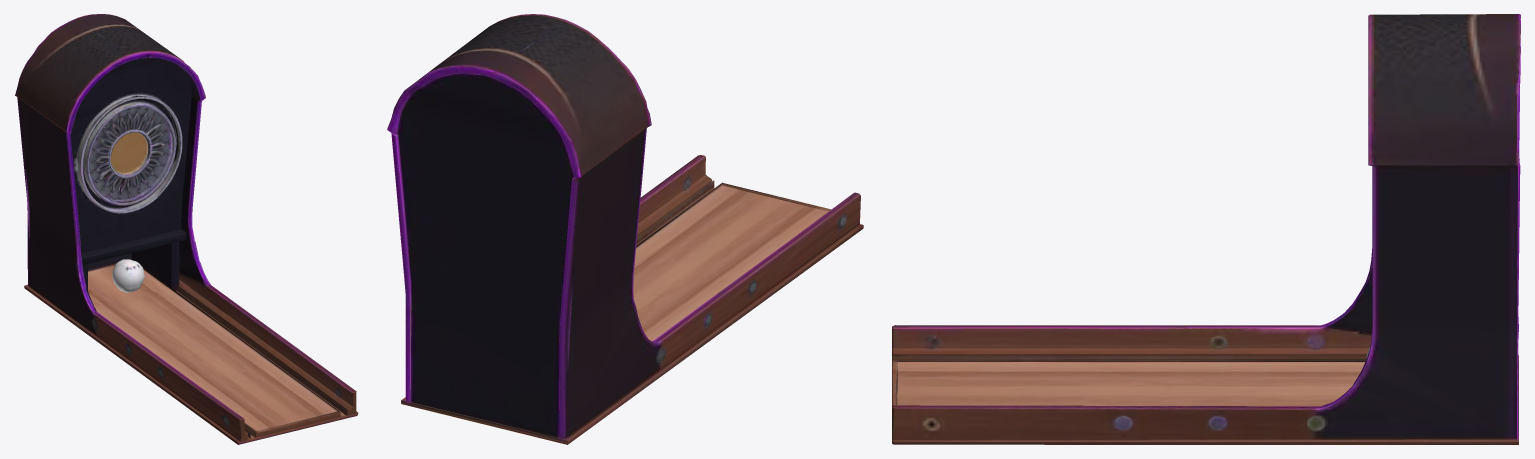
File: skeeball.glb
3 views of the same model, side by side, from view 1: azimuth 30°, elevation 25°; view 2: azimuth 150°, elevation 25°; view 3: azimuth 270°, elevation 25° (orthographic). The views are drawn at different scales.
Bounding box in the file's own units: 0.3614 × 0.6343 × 0.9561.
1 material, 1 textured.
